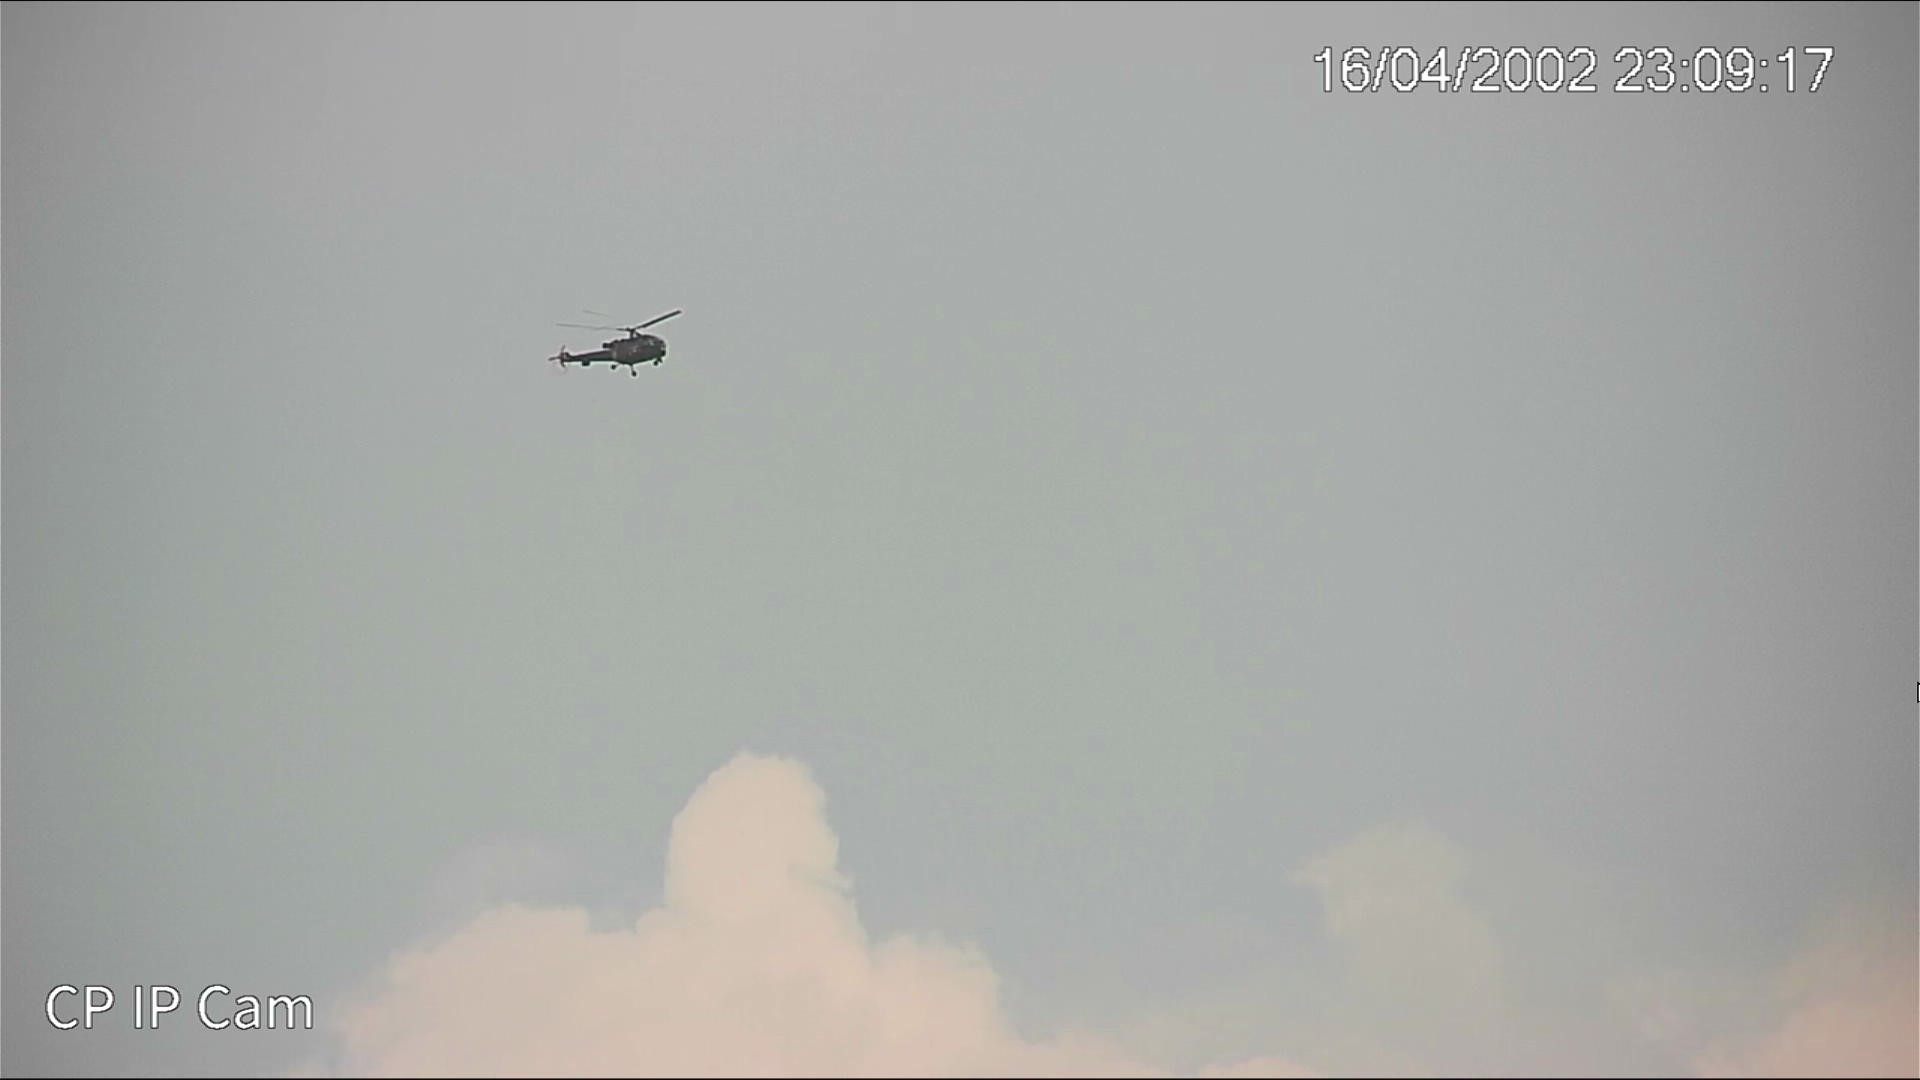SU_30: (550, 328, 676, 381)
